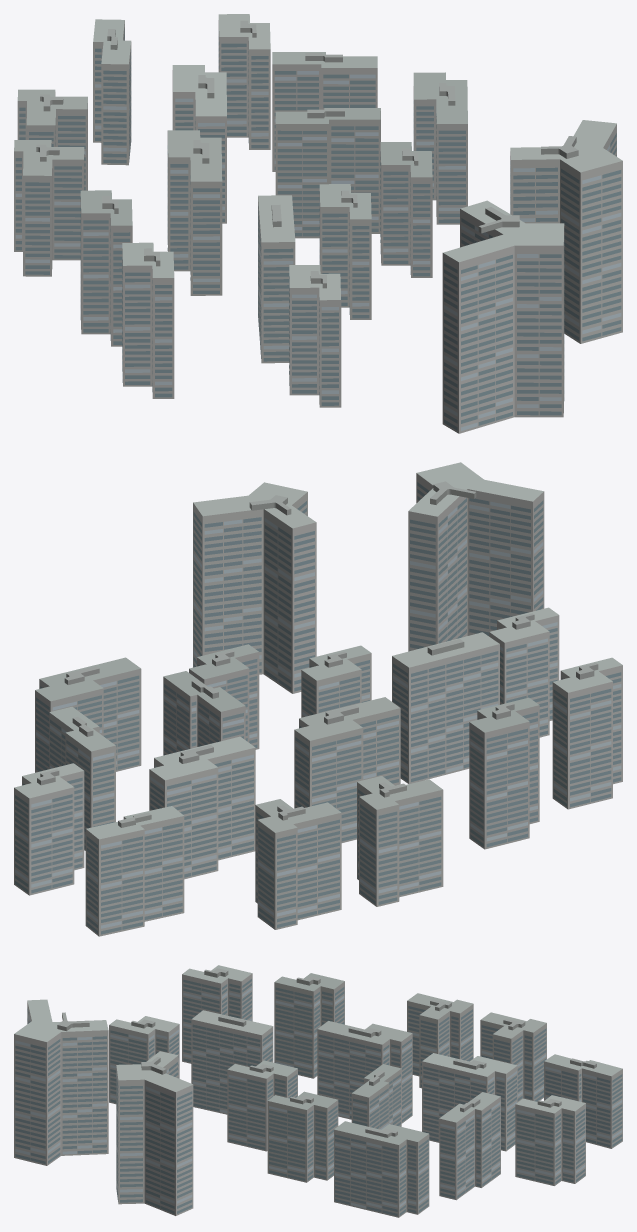
The model's file is apt-a12012202.glb.
3 views of the same model, one above another, from view 1: azimuth 30°, elevation 25°; view 2: azimuth 150°, elevation 25°; view 3: azimuth 270°, elevation 25° (orthographic). The views are drawn at different scales.
Visible parts, largest first — view 1: apt-a12012202; view 2: apt-a12012202; view 3: apt-a12012202.
Part boxes in pixels (x1=…): apt-a12012202: x1=14, y1=14, x2=622, y2=433; apt-a12012202: x1=14, y1=462, x2=622, y2=936; apt-a12012202: x1=14, y1=965, x2=622, y2=1217.
Bounding box in the file's own units: 210 × 75.6 × 326.
